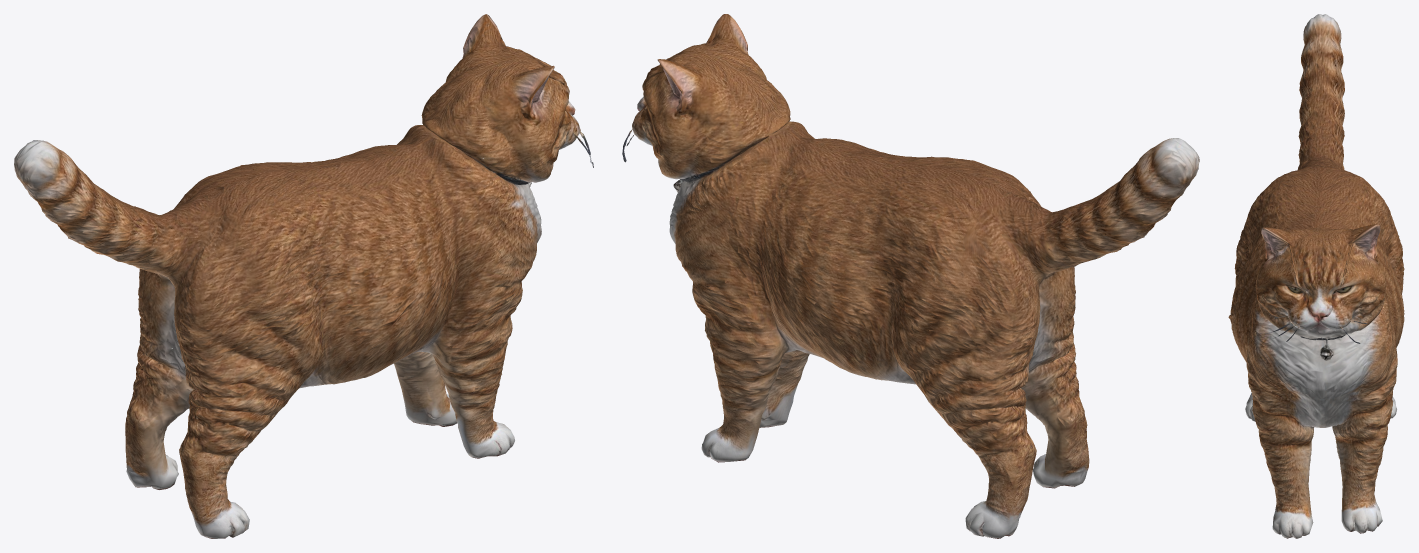
Rendered from GATEKITTY.glb.
The picture shows the model from 3 angles, left to right: view 1: azimuth 30°, elevation 25°; view 2: azimuth 150°, elevation 25°; view 3: azimuth 270°, elevation 25°; orthographic projection. The views are drawn at different scales.
Visible parts, largest first — view 1: tripo_node_6e343410-6962-4d59-9a36-f67c534abf38; view 2: tripo_node_6e343410-6962-4d59-9a36-f67c534abf38; view 3: tripo_node_6e343410-6962-4d59-9a36-f67c534abf38.
Part boxes in pixels (bbox=[...]): tripo_node_6e343410-6962-4d59-9a36-f67c534abf38: bbox=[14, 14, 593, 538]; tripo_node_6e343410-6962-4d59-9a36-f67c534abf38: bbox=[622, 14, 1199, 538]; tripo_node_6e343410-6962-4d59-9a36-f67c534abf38: bbox=[1228, 14, 1404, 538].
Bounding box in the file's own units: 1.44 × 0.9986 × 0.469.
1 material, 1 textured.
